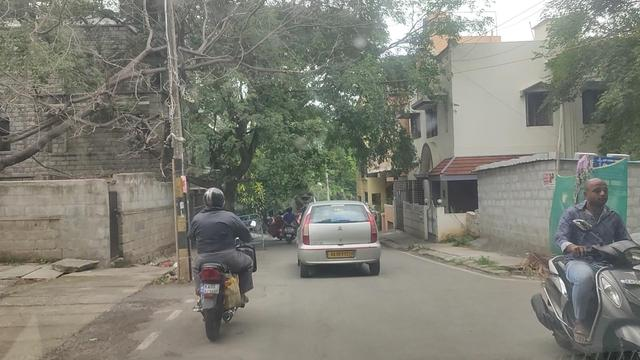LMV: (556, 177, 640, 360), (182, 187, 255, 343), (292, 201, 386, 286)
